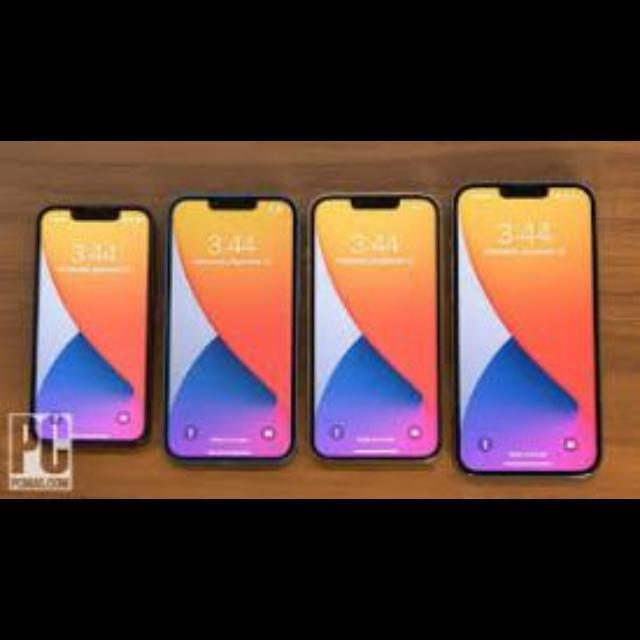phone: (452, 175, 600, 475), (307, 189, 447, 473), (163, 188, 303, 460), (30, 190, 155, 464)
